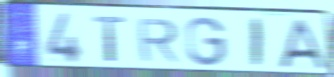4: (44, 11, 84, 65)
A: (278, 18, 329, 70)
G: (184, 15, 228, 68)
I: (249, 16, 265, 69)
R: (135, 17, 182, 64)
T: (91, 15, 128, 64)
